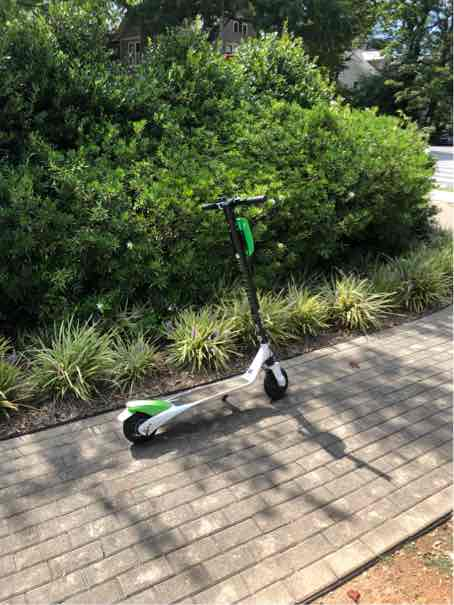scooter: (114, 183, 293, 447)
